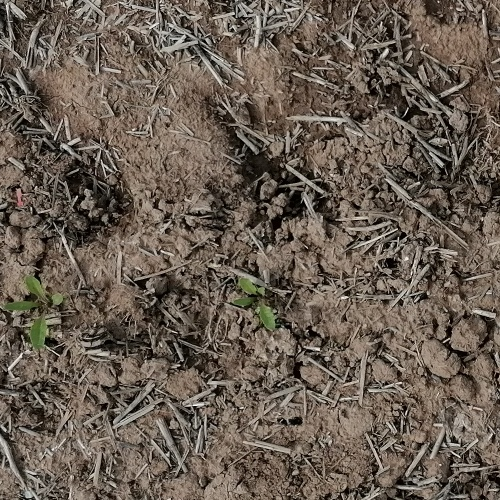beet: (7, 274, 63, 349), (238, 275, 277, 332)
